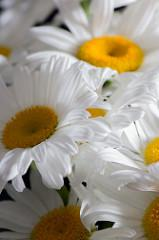daisy: (1, 55, 101, 195), (28, 1, 159, 85), (83, 158, 159, 240), (1, 181, 102, 240), (83, 81, 148, 141)
